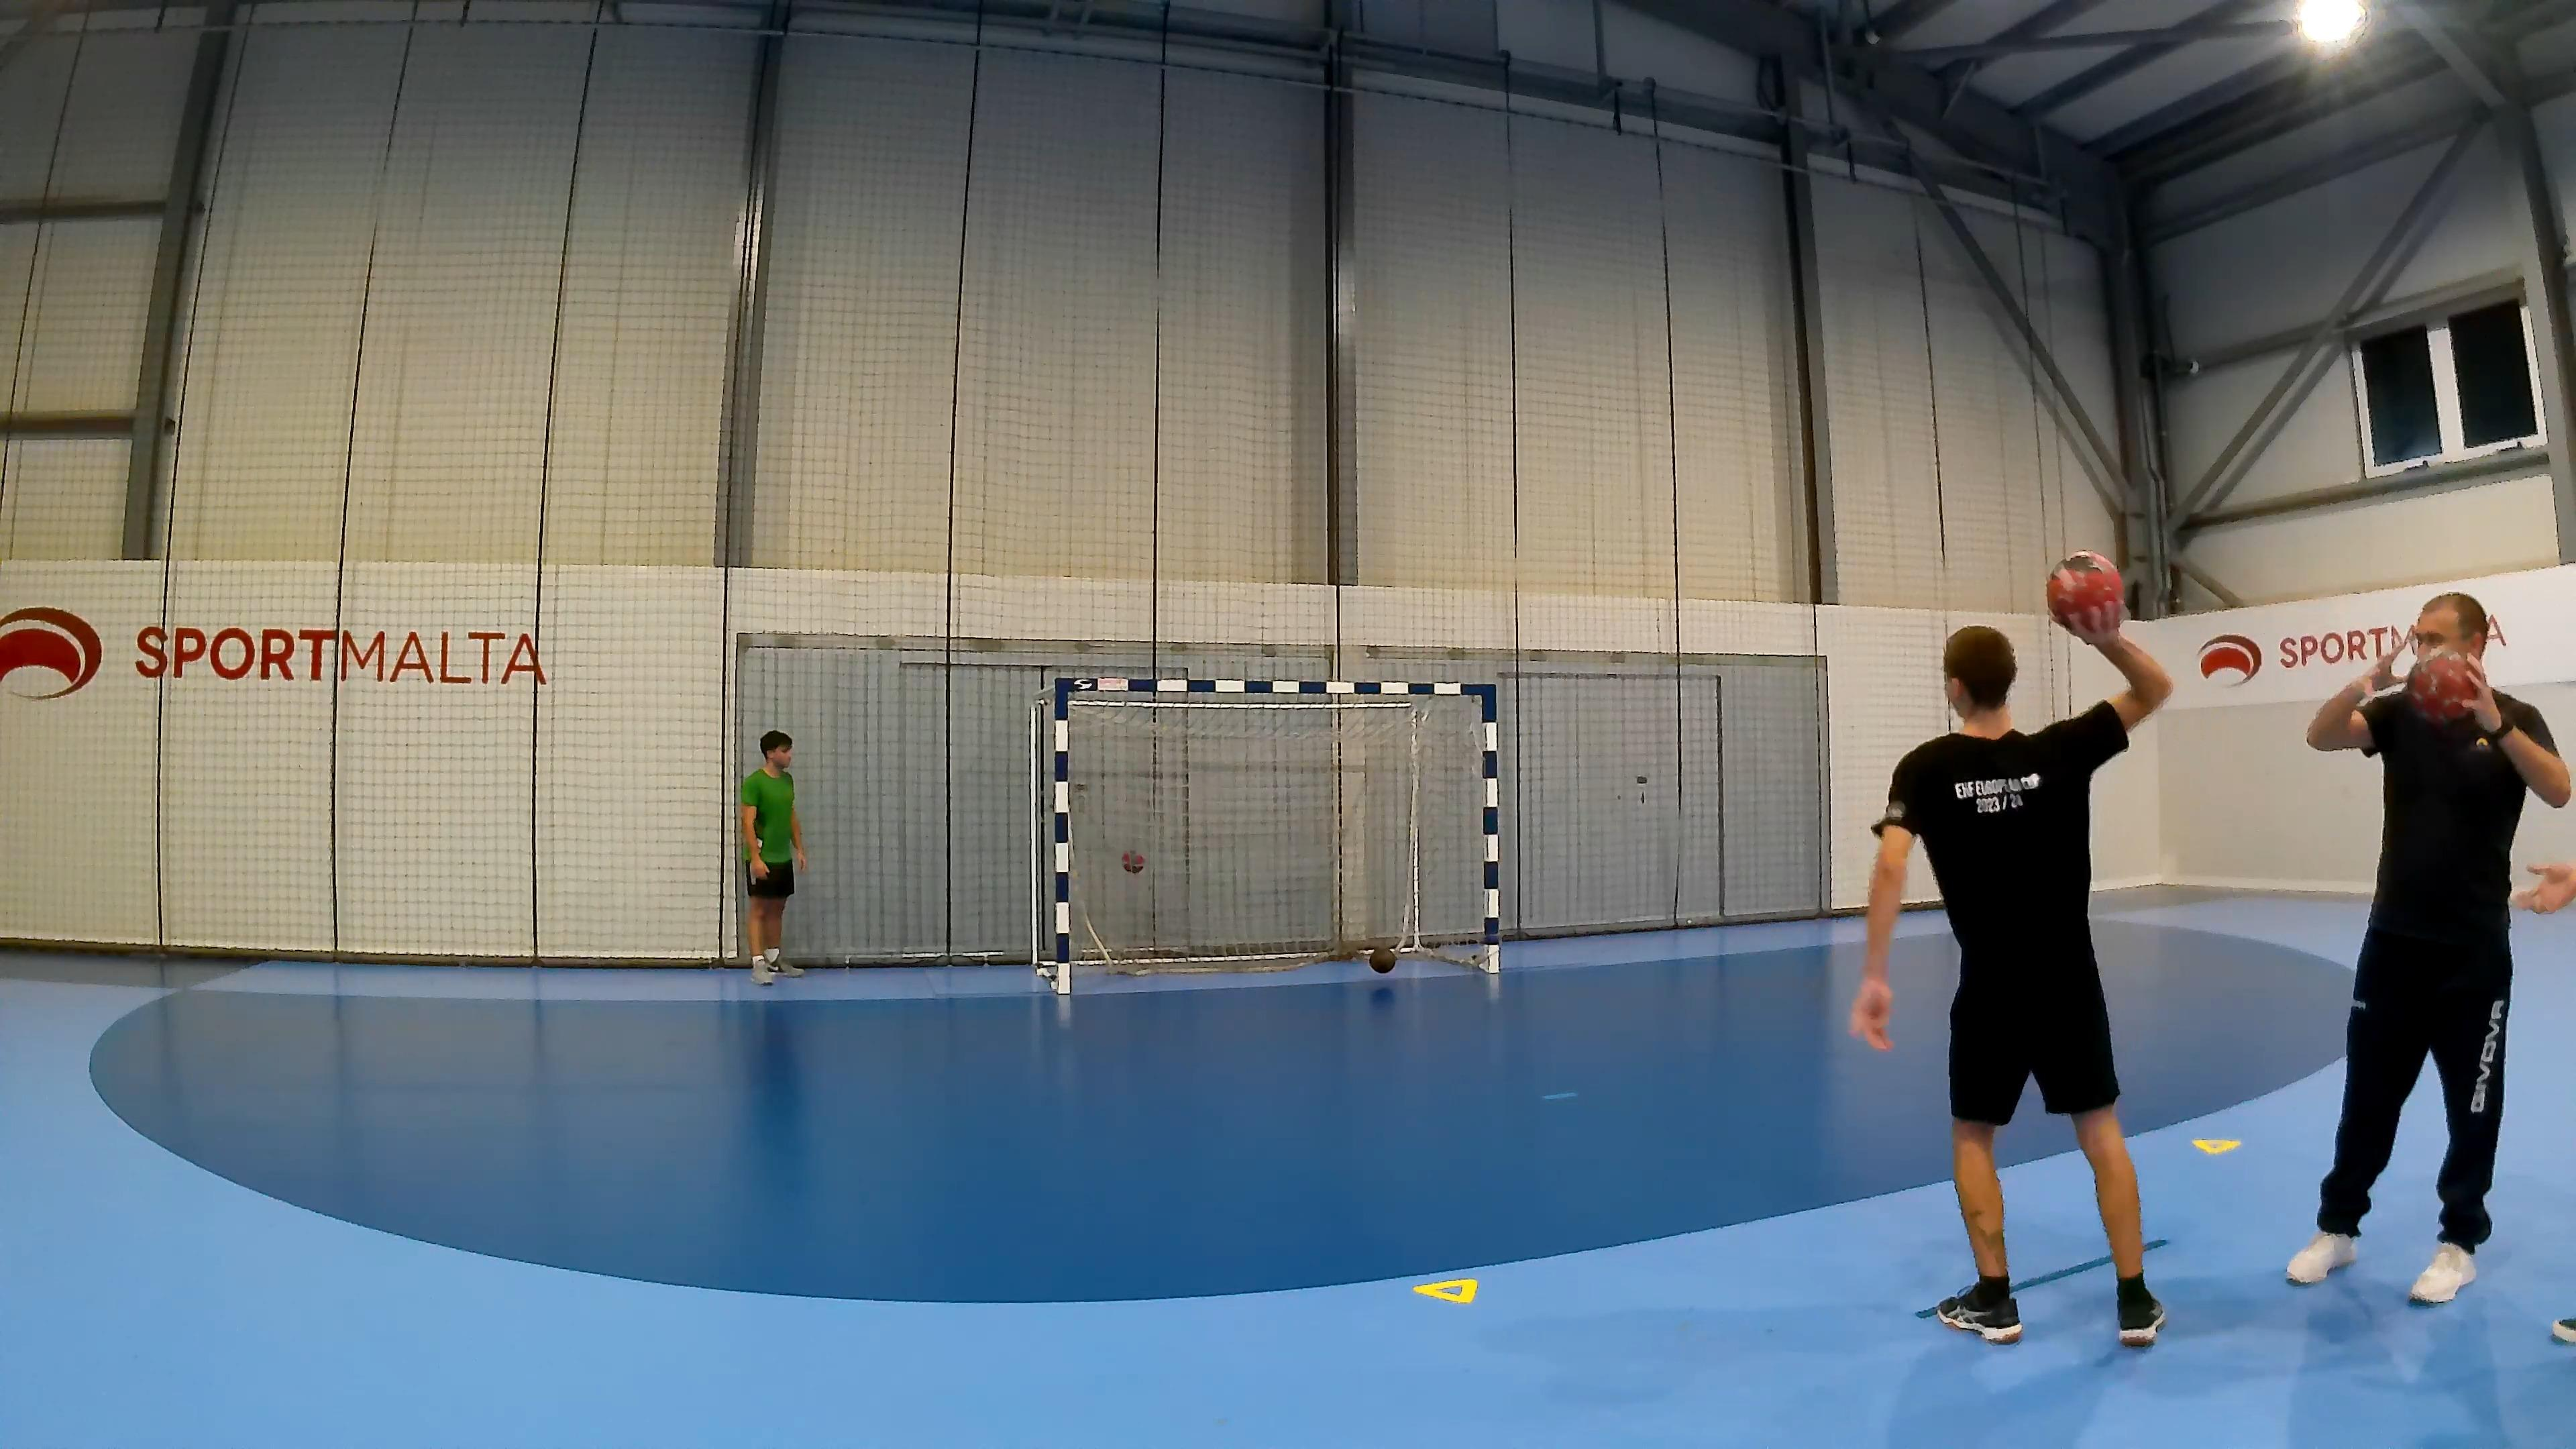handball: (2045, 550, 2123, 635), (2406, 649, 2482, 725), (1368, 938, 1399, 980)
